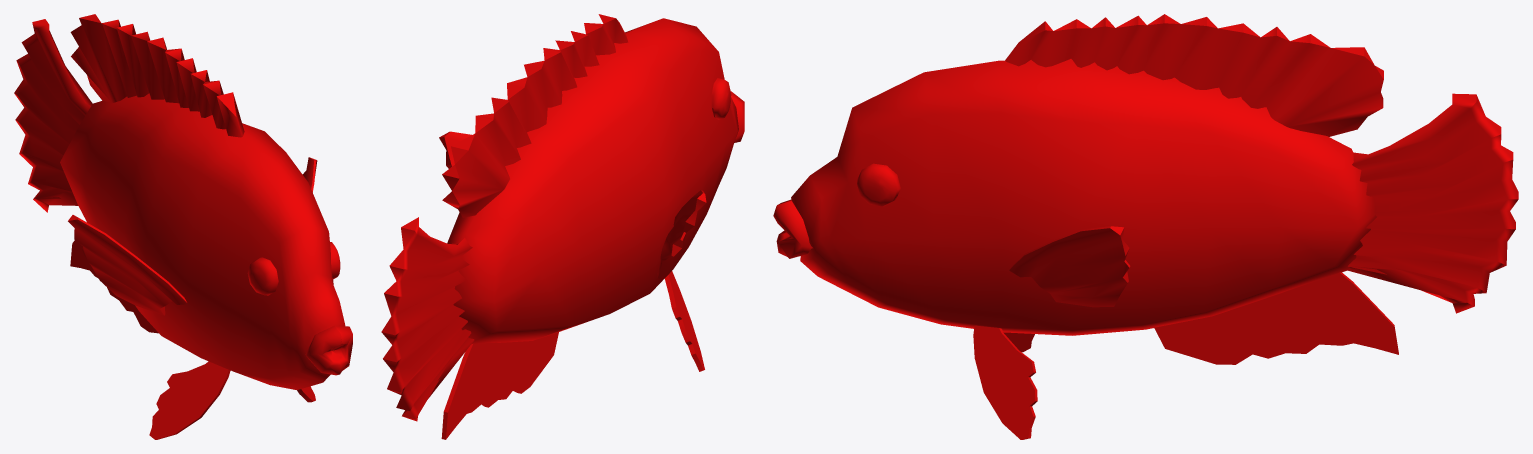
3 renders of one model, left to right at view 1: azimuth 30°, elevation 25°; view 2: azimuth 150°, elevation 25°; view 3: azimuth 270°, elevation 25°, orthographic. The views are drawn at different scales.
Visible parts, largest first — view 1: Fish_NapoleonWrasse; view 2: Fish_NapoleonWrasse; view 3: Fish_NapoleonWrasse.
Part boxes in pixels (box(x1,y1,x2,y2)): Fish_NapoleonWrasse: box(14, 14, 352, 439); Fish_NapoleonWrasse: box(381, 14, 744, 439); Fish_NapoleonWrasse: box(773, 14, 1518, 439).
Bounding box in the file's own units: 0.3657 × 0.4561 × 0.8161.
